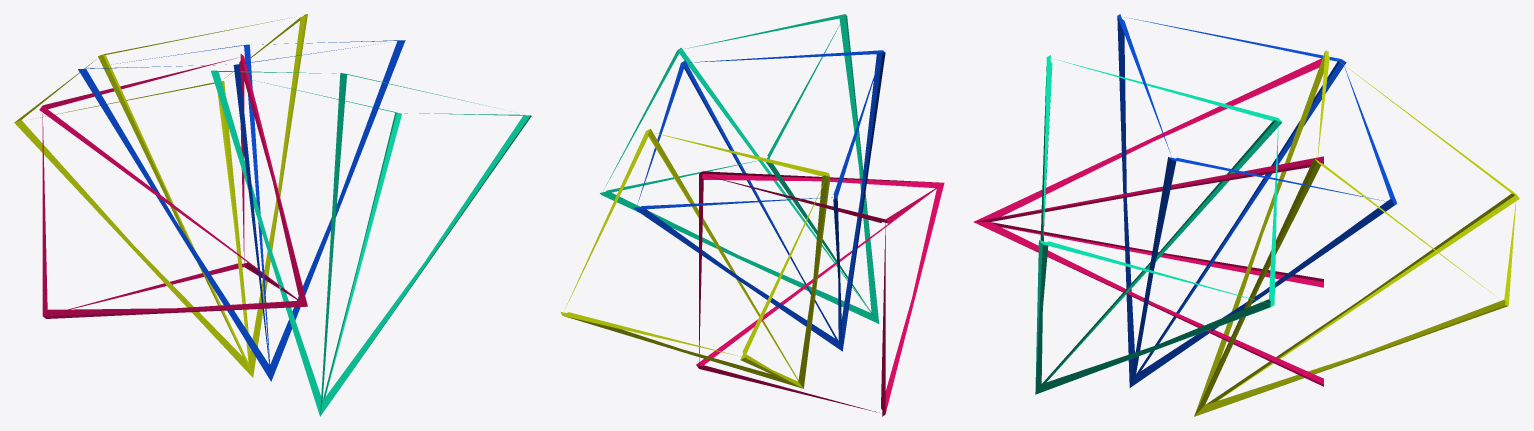
The model's file is pitch_180_wrist_video_30.glb.
The picture shows the model from 3 angles, left to right: view 1: azimuth 30°, elevation 25°; view 2: azimuth 150°, elevation 25°; view 3: azimuth 270°, elevation 25°; orthographic projection. The views are drawn at different scales.
Parts seen in each view (by area): view 1: world; view 2: world; view 3: world.
Boxes of the visible parts, x1,y1,x2,y2 form: world: [14, 14, 531, 416]; world: [560, 14, 944, 416]; world: [973, 14, 1519, 416].
Size of the model in its own units: 0.2121 by 0.1978 by 0.2611.
